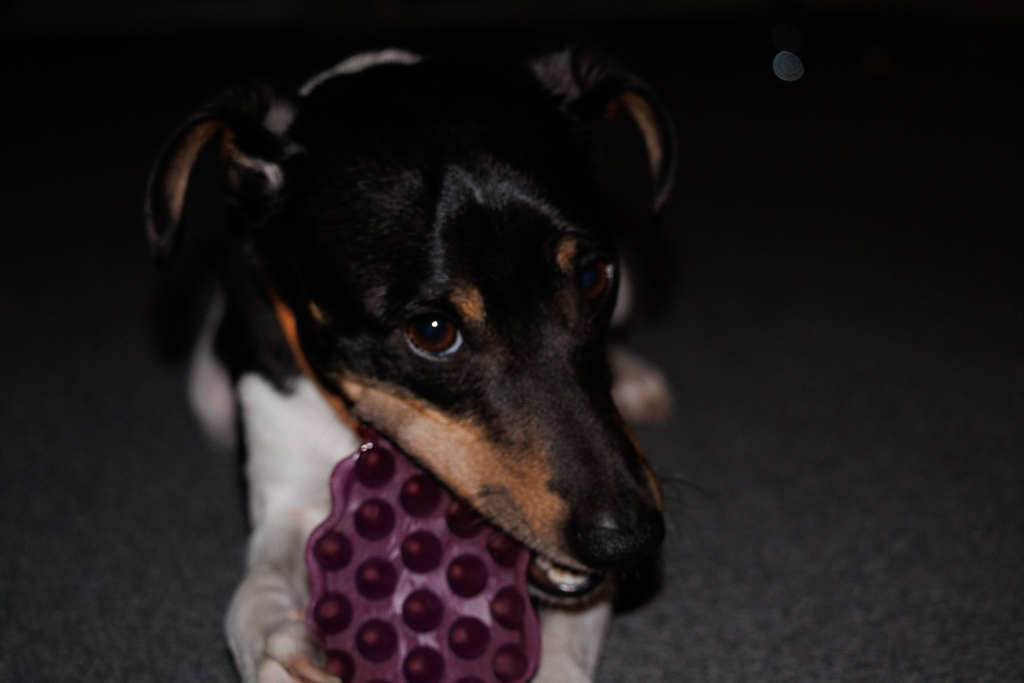Dog: (127, 0, 696, 683)
